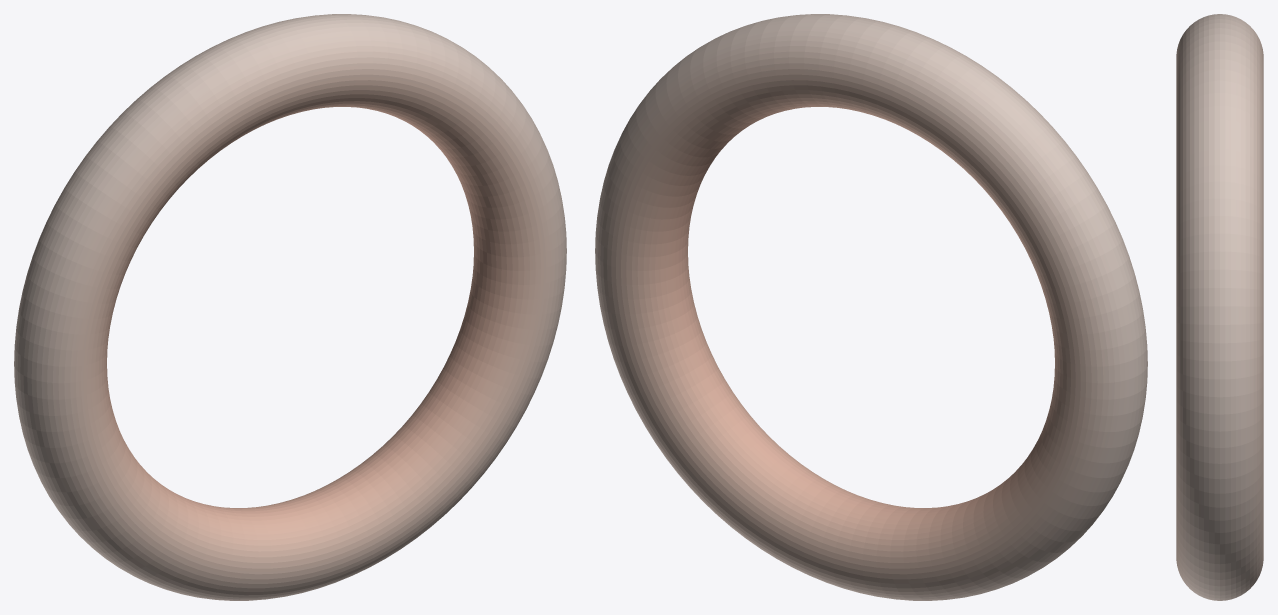
3 views of the same model, side by side, from view 1: azimuth 30°, elevation 25°; view 2: azimuth 150°, elevation 25°; view 3: azimuth 270°, elevation 25° (orthographic). The views are drawn at different scales.
Visible parts, largest first — view 1: world; view 2: world; view 3: world.
Boxes of the visible parts, left/top/right/bottom form: world: left=14, top=14, right=566, bottom=600; world: left=595, top=14, right=1147, bottom=600; world: left=1176, top=14, right=1263, bottom=600.
Size of the model in its own units: 18.8 by 18.8 by 2.79.
